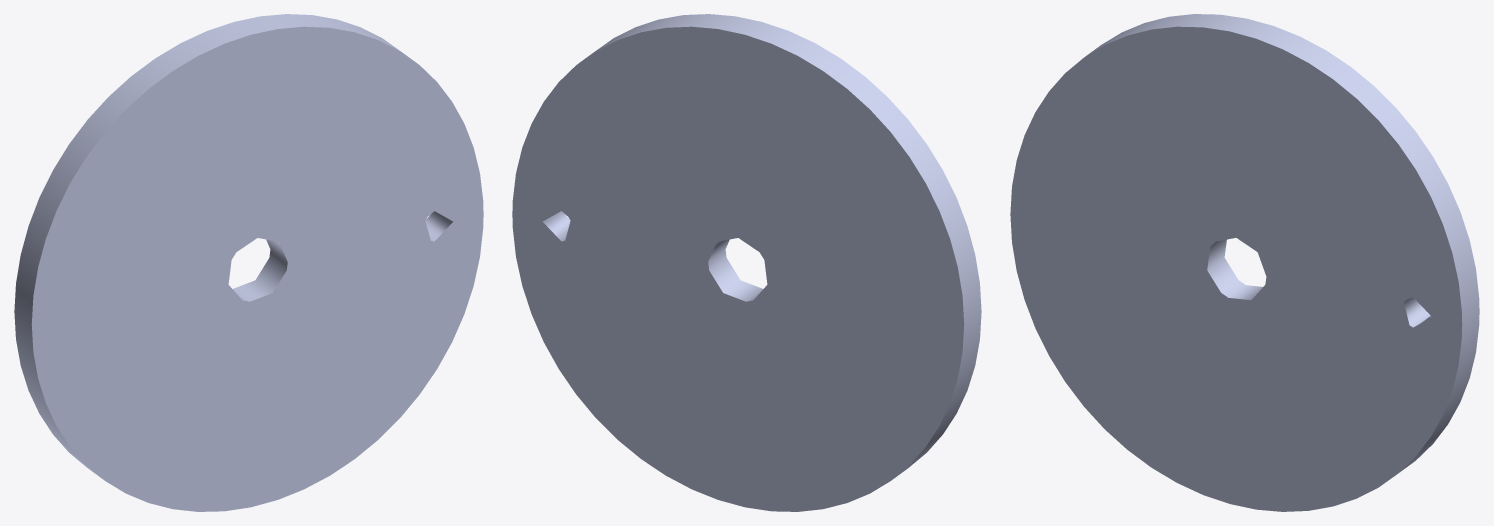
File: gear.obj
3 views of the same model, side by side, from view 1: azimuth 30°, elevation 25°; view 2: azimuth 150°, elevation 25°; view 3: azimuth 330°, elevation 25° (orthographic).
Visible parts, largest first — view 1: mesh 1 gear; view 2: mesh 1 gear; view 3: mesh 1 gear.
Part boxes in pixels (x1,y1,x2,y2): mesh 1 gear: (14, 14, 483, 511); mesh 1 gear: (512, 14, 981, 511); mesh 1 gear: (1010, 14, 1479, 511).
Bounding box in the file's own units: 0.015 × 0.015 × 0.001.
